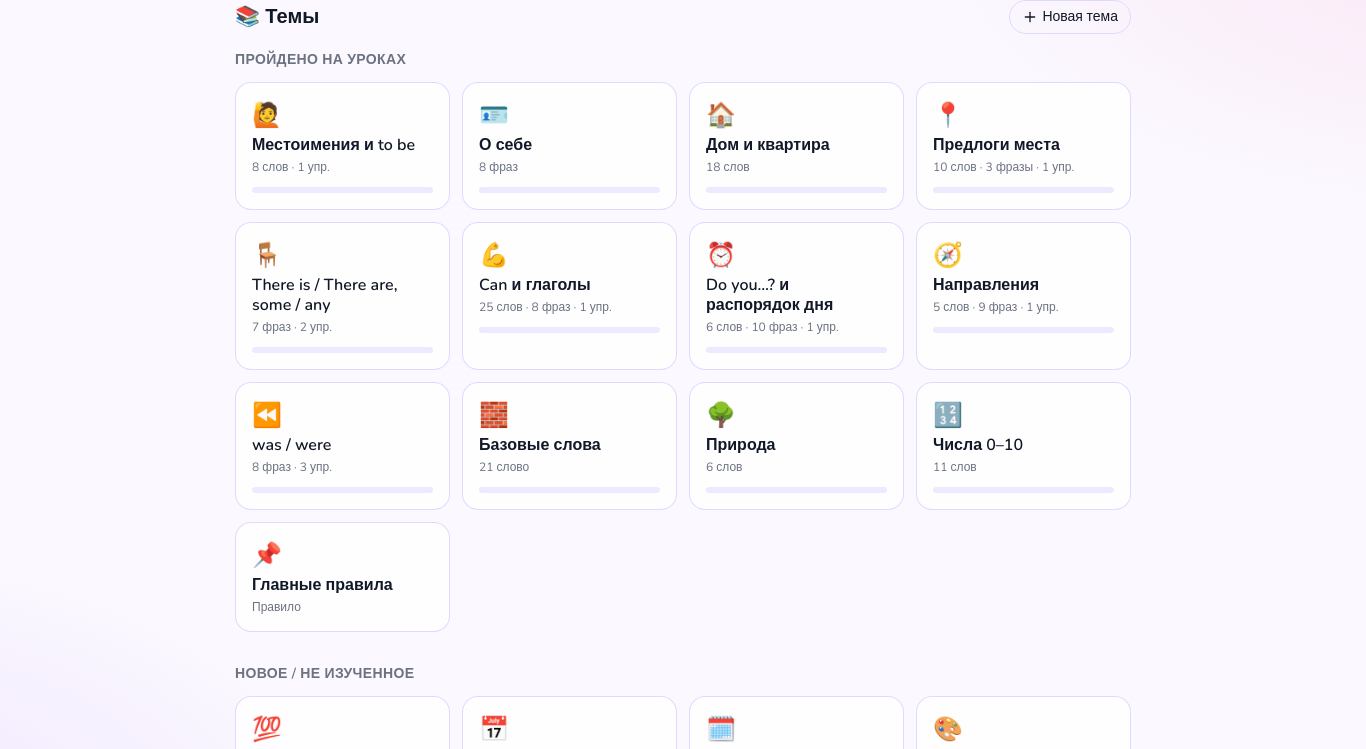
TopicsPage new topic › creates a topic and opens it
The width and height of the screenshot is (1366, 749).
Click the button "Новая тема".
click(1070, 17)  # box [1009,0,1131,34]
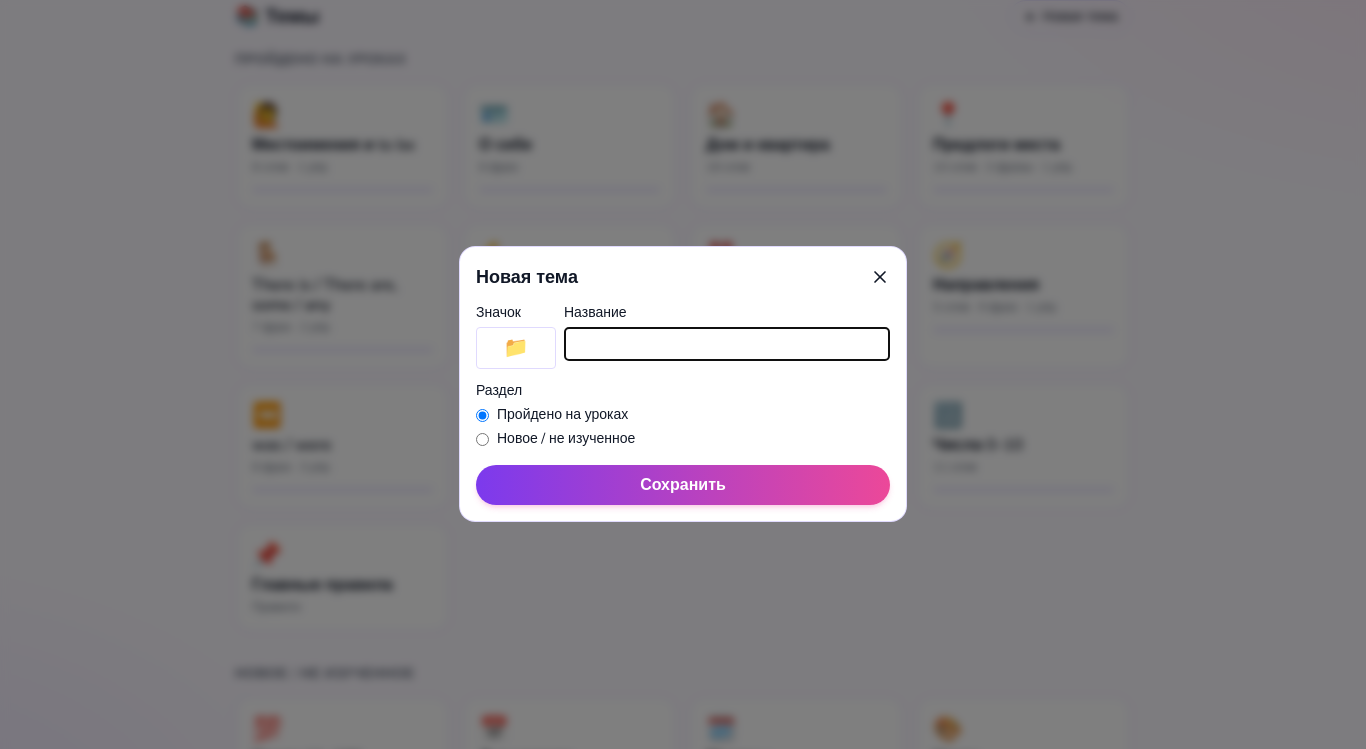
Type "Работа" into the field labelled "Название".
click(727, 344); type("Работа")  # box [564,327,890,361]
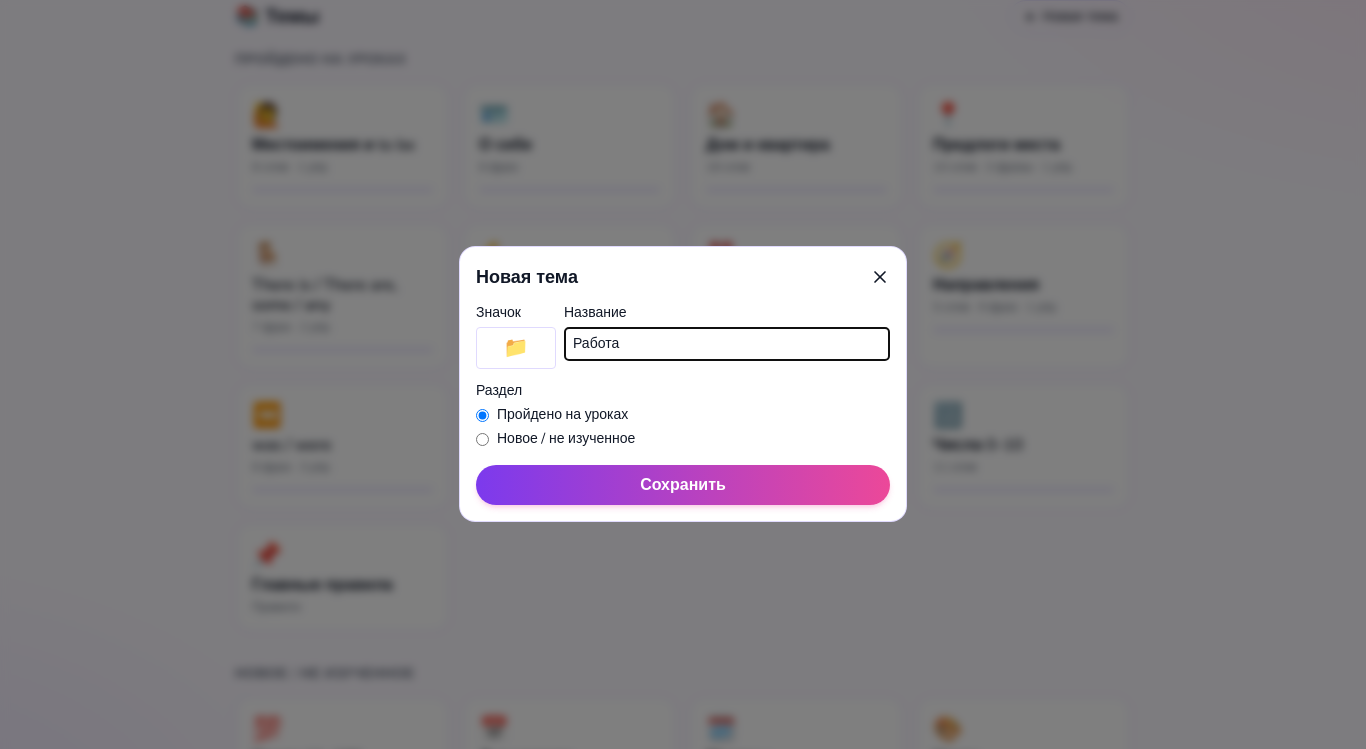
Click the button "Сохранить".
click(683, 485)  # box [476,465,890,505]
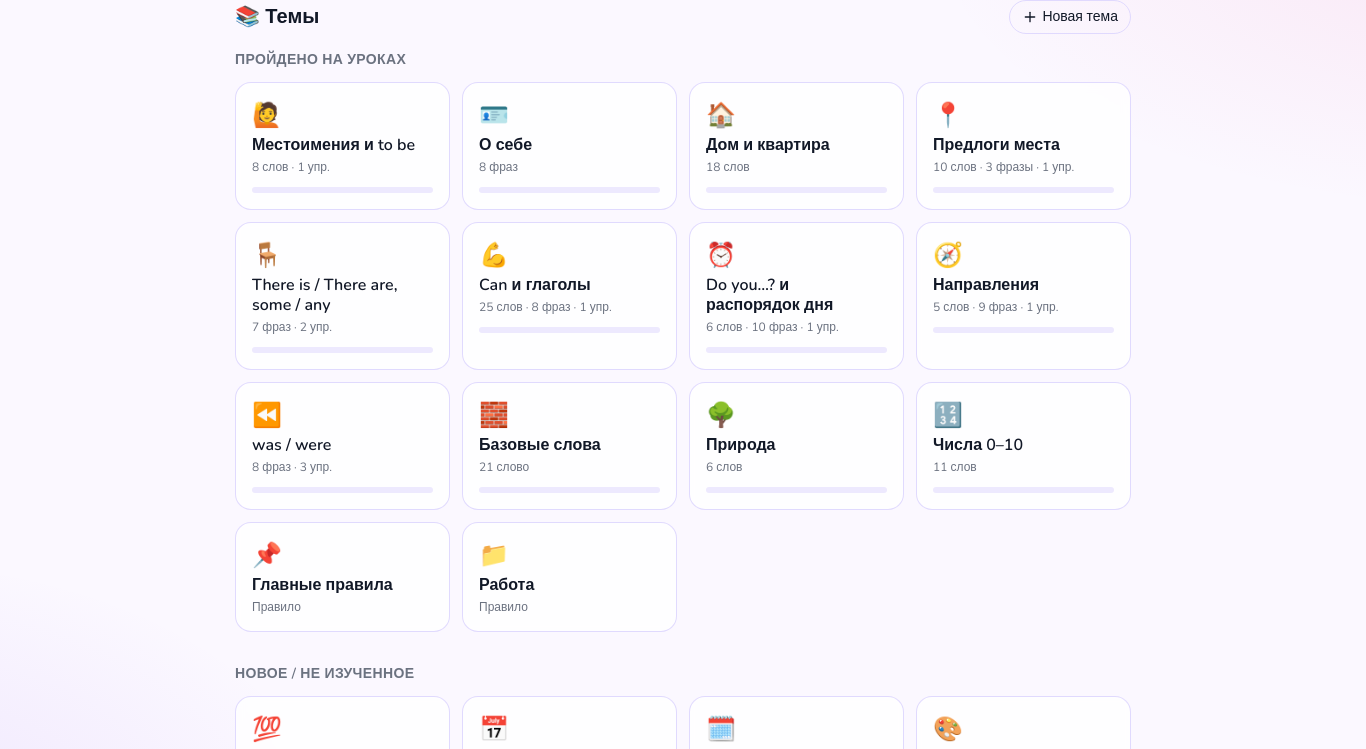
Expected: the text "Работа" is shown, [479,574,534,596]
